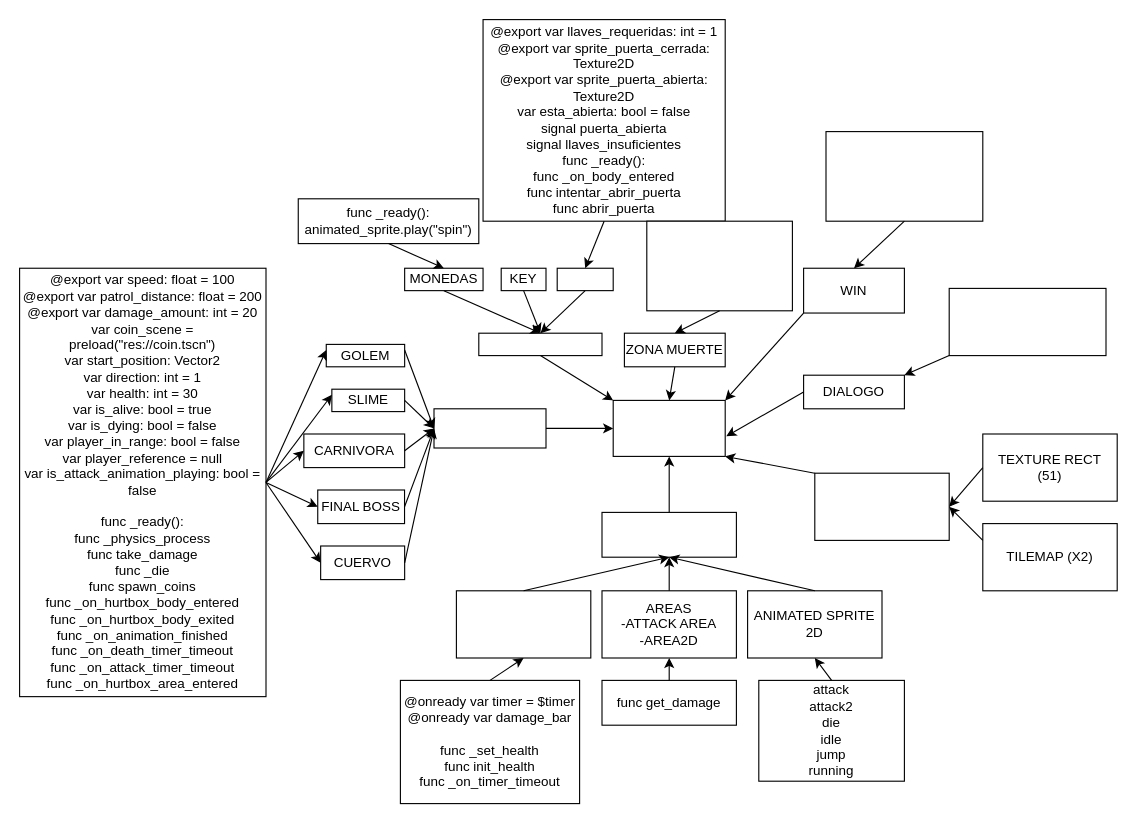
This 1137x823 diagram has some shape labels left out. The box of each missing label's shape, as (x1, y1, x2, y2) in pixels:
CHARACTER BODY: (601, 511, 736, 557)
DOOR: (556, 267, 613, 291)
ENEMIES: (433, 408, 546, 448)
FONDO TEXTURAS: (814, 472, 949, 540)
func _ready func _on_body_entered Dialogic.start("timeline"): (948, 287, 1106, 356)
func _ready func _on_body_entered func change_to_win: (825, 130, 983, 221)
func _ready() func _on_body_entered func change_to_game_over: (646, 220, 792, 311)
HEALTH BAR: (455, 590, 591, 658)
INTERACTUABLES: (478, 332, 602, 356)
MAIN: (612, 399, 725, 456)
